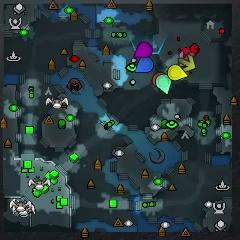p1: (135, 58, 154, 73)
p2: (156, 75, 172, 93)
p3: (134, 42, 152, 57)
p4: (167, 65, 187, 81)
p5: (152, 72, 164, 84)
x1: (179, 51, 196, 66)
x2: (178, 55, 195, 71)
